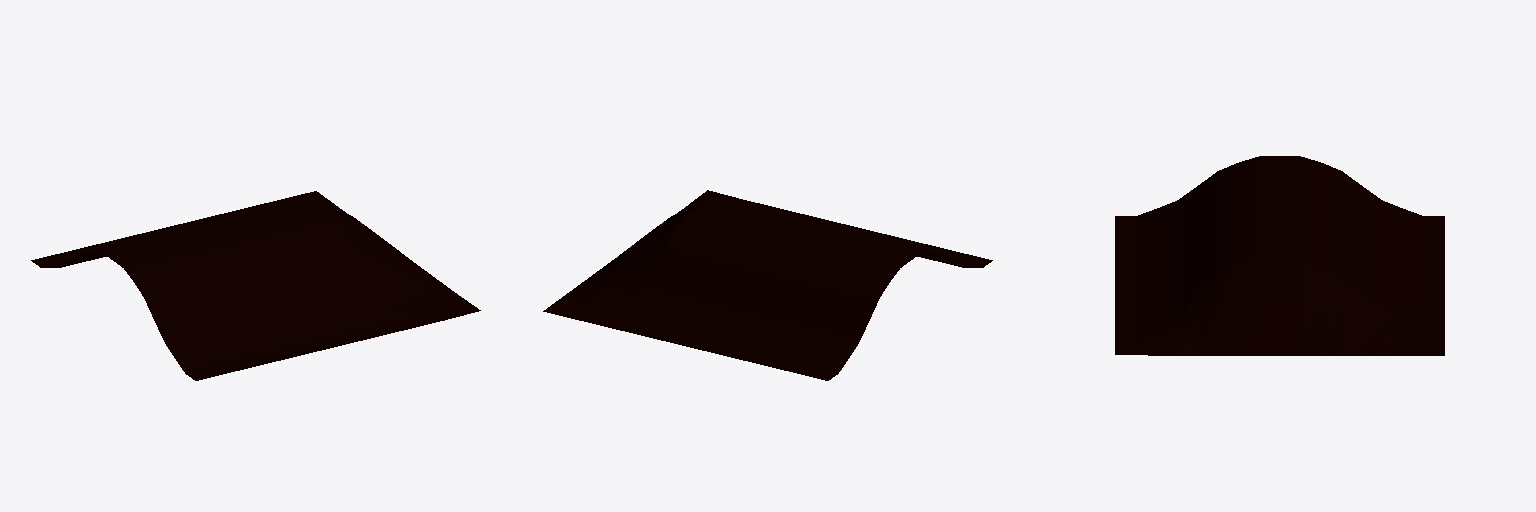
The model's file is dirt-end.obj.
3 views of the same model, side by side, from view 1: azimuth 30°, elevation 25°; view 2: azimuth 150°, elevation 25°; view 3: azimuth 270°, elevation 25° (orthographic).
Visible parts, largest first — view 1: Plane; view 2: Plane; view 3: Plane.
Boxes of the visible parts, <box> form: Plane: <box>31,191,480,380</box>; Plane: <box>543,190,992,380</box>; Plane: <box>1115,156,1444,355</box>.
Bounding box in the file's own units: 2 × 0.402 × 2.